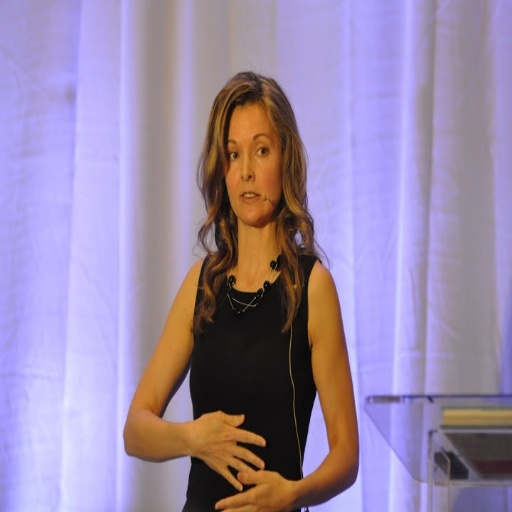hand: (186, 411, 260, 469), (214, 469, 298, 510)
